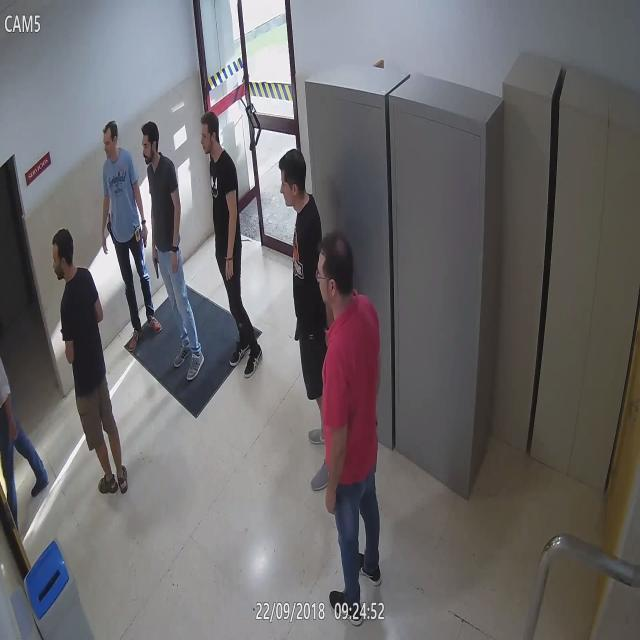Gun: (146, 239, 165, 283)
